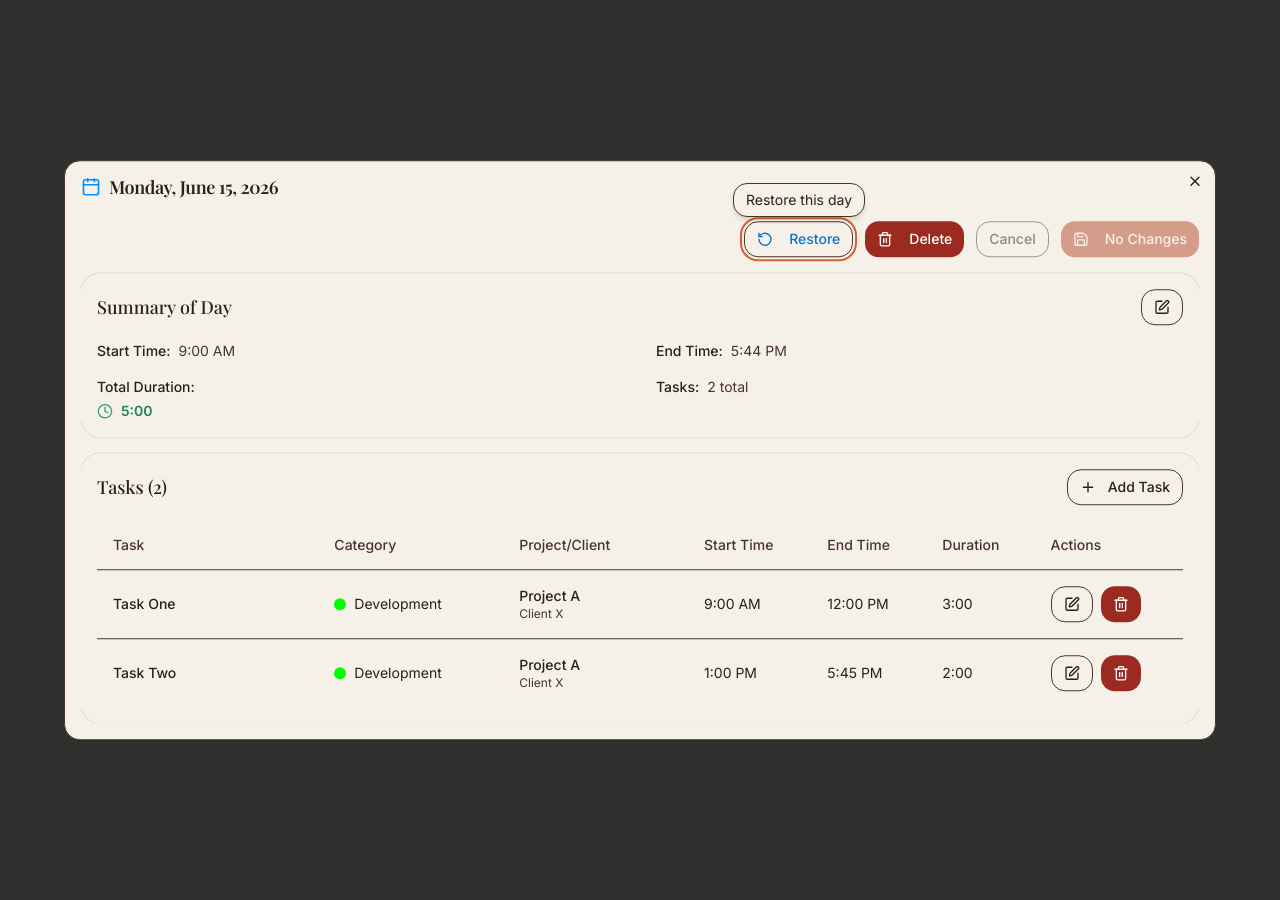
ArchiveEditDialog › disables Add Task and shows an error when the new task ends before it starts
Click the button "Add Task" at (1125, 487), box left=1067, top=469, right=1183, bottom=505
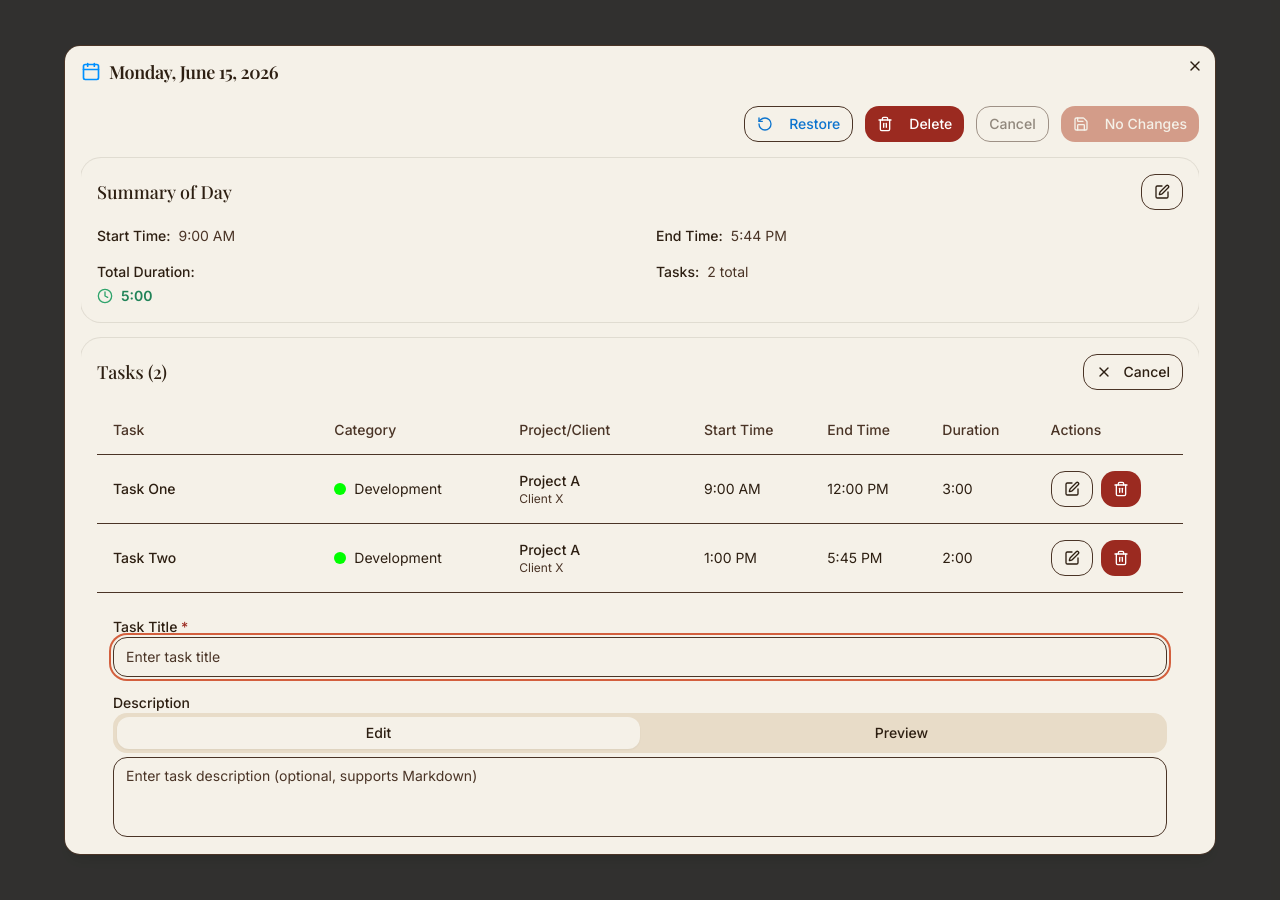
Type "Late task" into the field labelled "Task Title *" at (640, 656), box left=113, top=636, right=1167, bottom=676
(page scrolled)
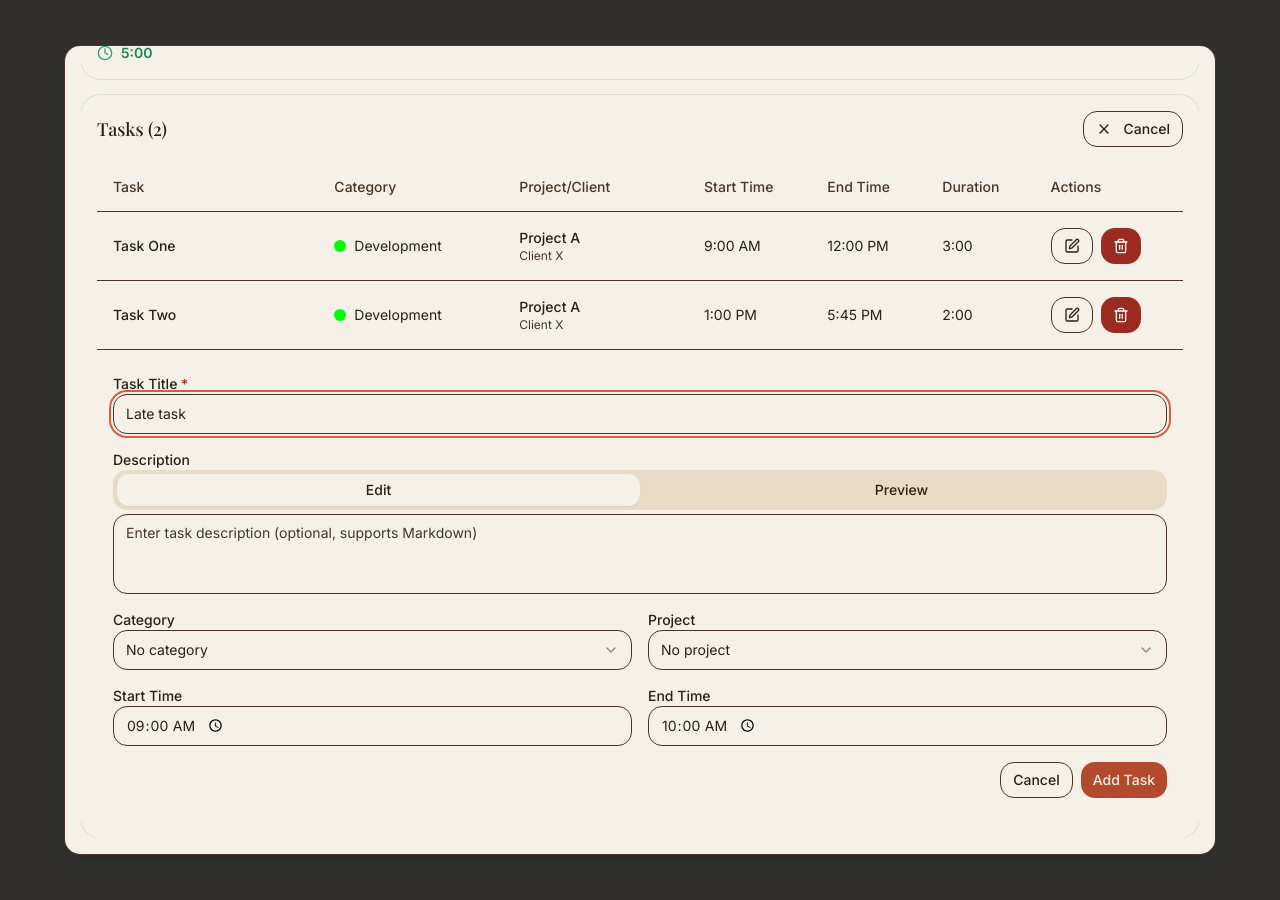
Replace the text in the time field named "Task start time" with "14:00" at (372, 726), box left=113, top=706, right=632, bottom=746
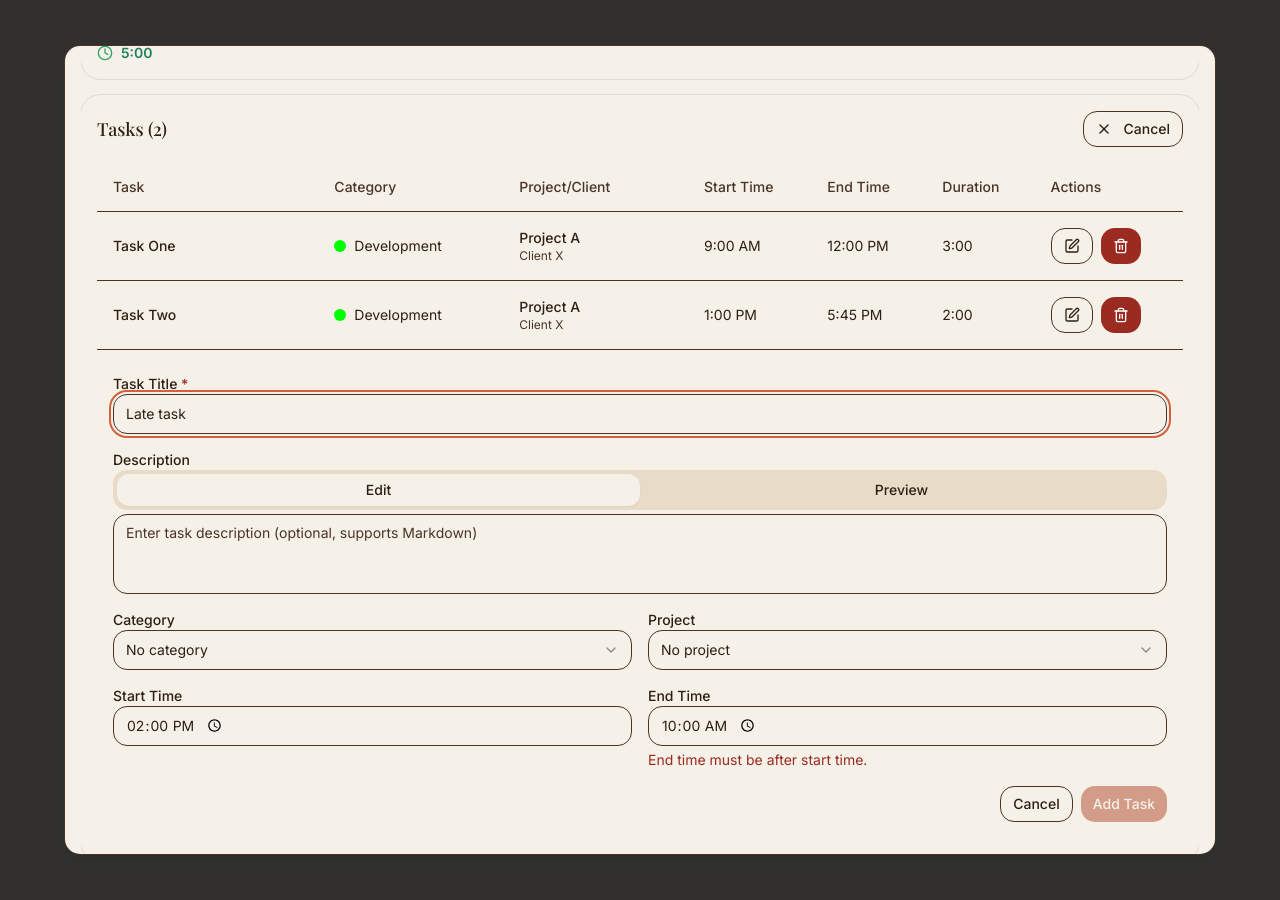
Replace the text in the time field named "Task end time" with "13:00" at (908, 726), box left=648, top=706, right=1167, bottom=746
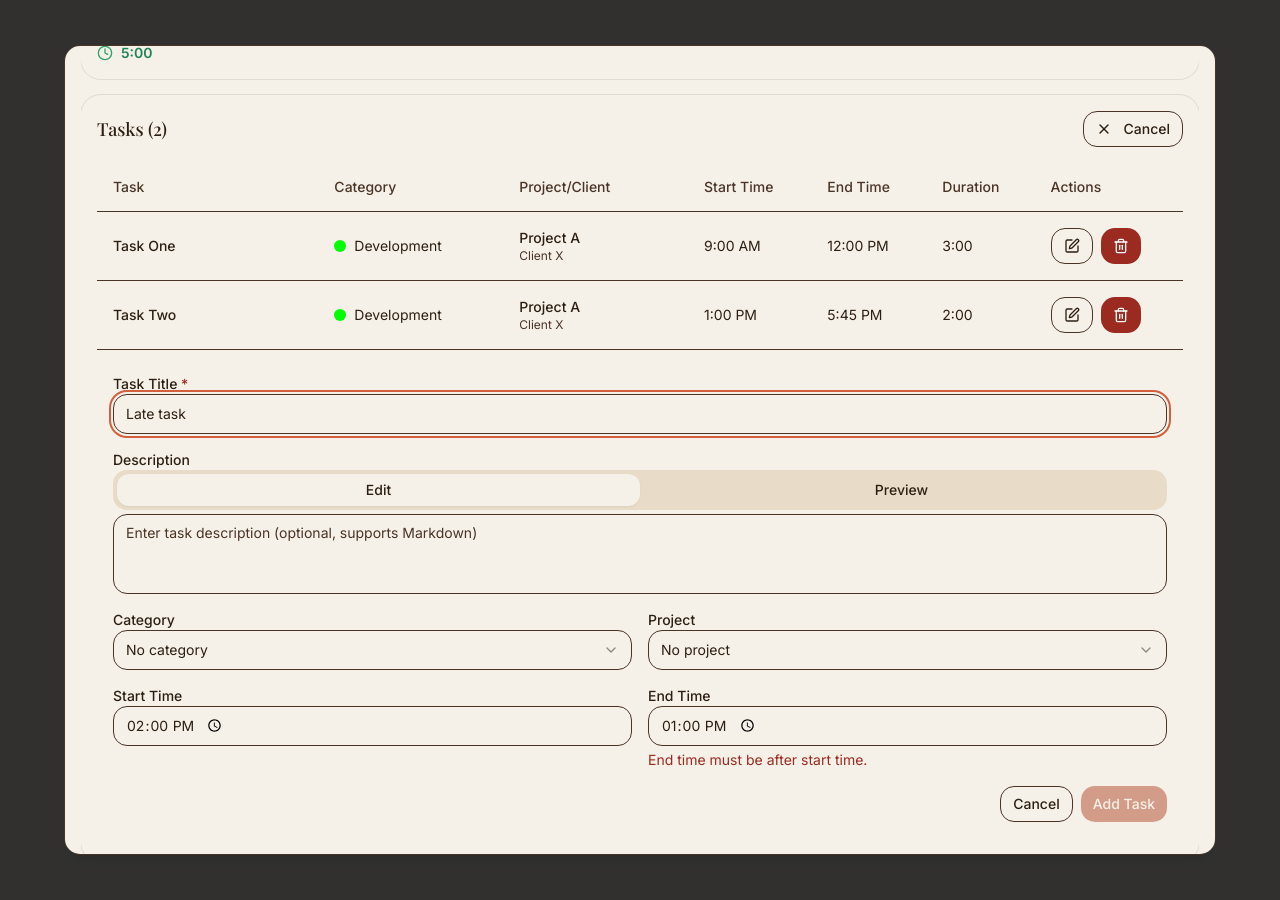
Expected: the message reads "End time must be after start time.", left=648, top=750, right=867, bottom=768
Expected: the button "Add Task" is disabled, left=1081, top=786, right=1167, bottom=822
Replace the text in the time field named "Task end time" with "15:00" at (908, 726), box left=648, top=706, right=1167, bottom=746
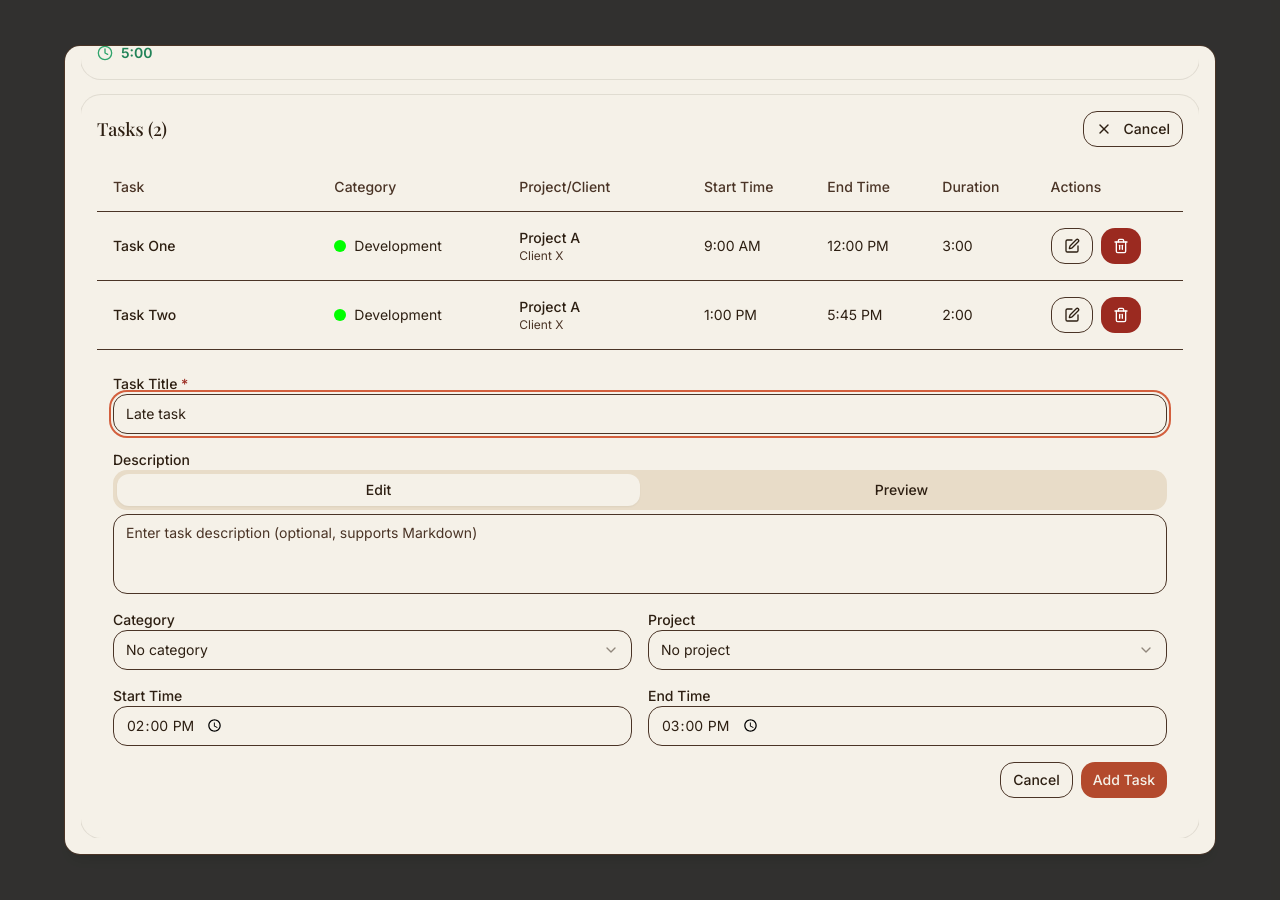
Expected: the message "End time must be after start time." is gone
Expected: the button "Add Task" is enabled, left=1081, top=762, right=1167, bottom=798
